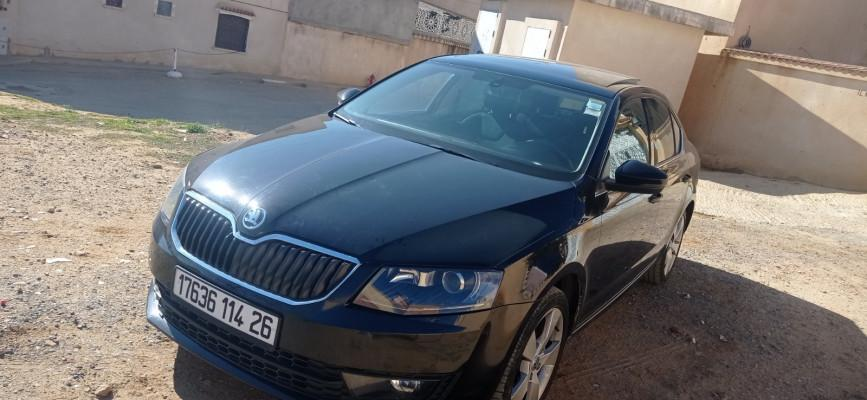skoda: (237, 200, 270, 234)
